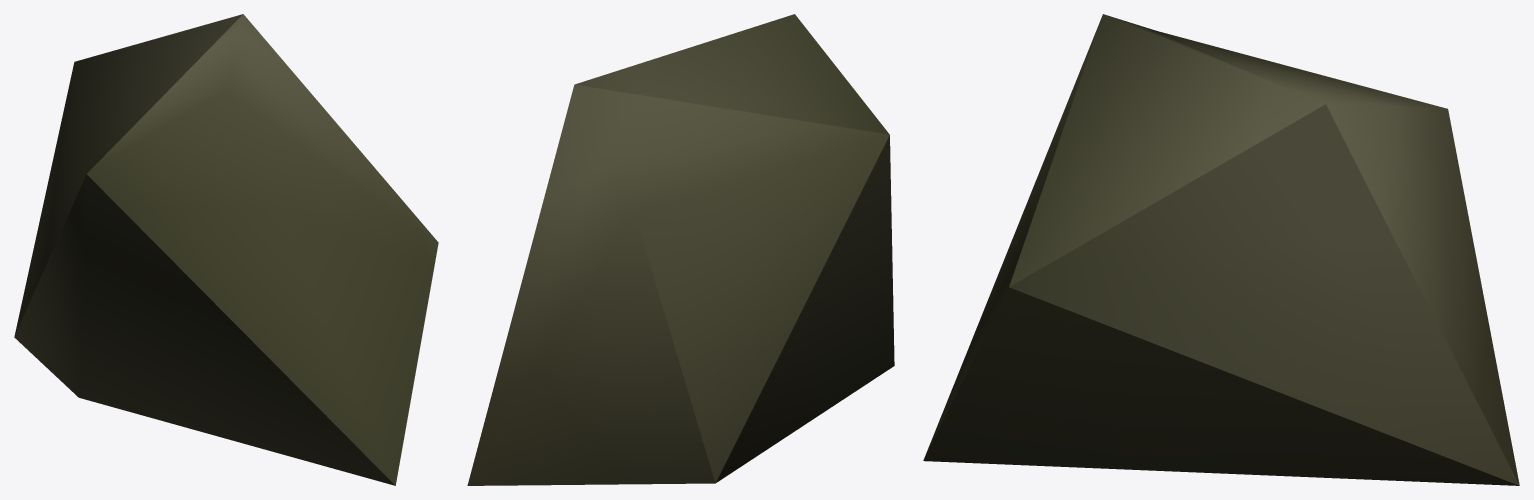
Rendered from EnvFldMD_FoliageStone_A_SA.FBX.
3 views of the same model, side by side, from view 1: azimuth 30°, elevation 25°; view 2: azimuth 150°, elevation 25°; view 3: azimuth 270°, elevation 25° (orthographic). The views are drawn at different scales.
Visible parts, largest first — view 1: EnvFldMD_FoliageStone_A_SA; view 2: EnvFldMD_FoliageStone_A_SA; view 3: EnvFldMD_FoliageStone_A_SA.
Boxes of the visible parts, box(x1,y1,x2,y2) form: EnvFldMD_FoliageStone_A_SA: box(14, 14, 438, 485); EnvFldMD_FoliageStone_A_SA: box(467, 14, 894, 485); EnvFldMD_FoliageStone_A_SA: box(923, 14, 1519, 485).
Bounding box in the file's own units: 8.75 × 10.23 × 13.86.
